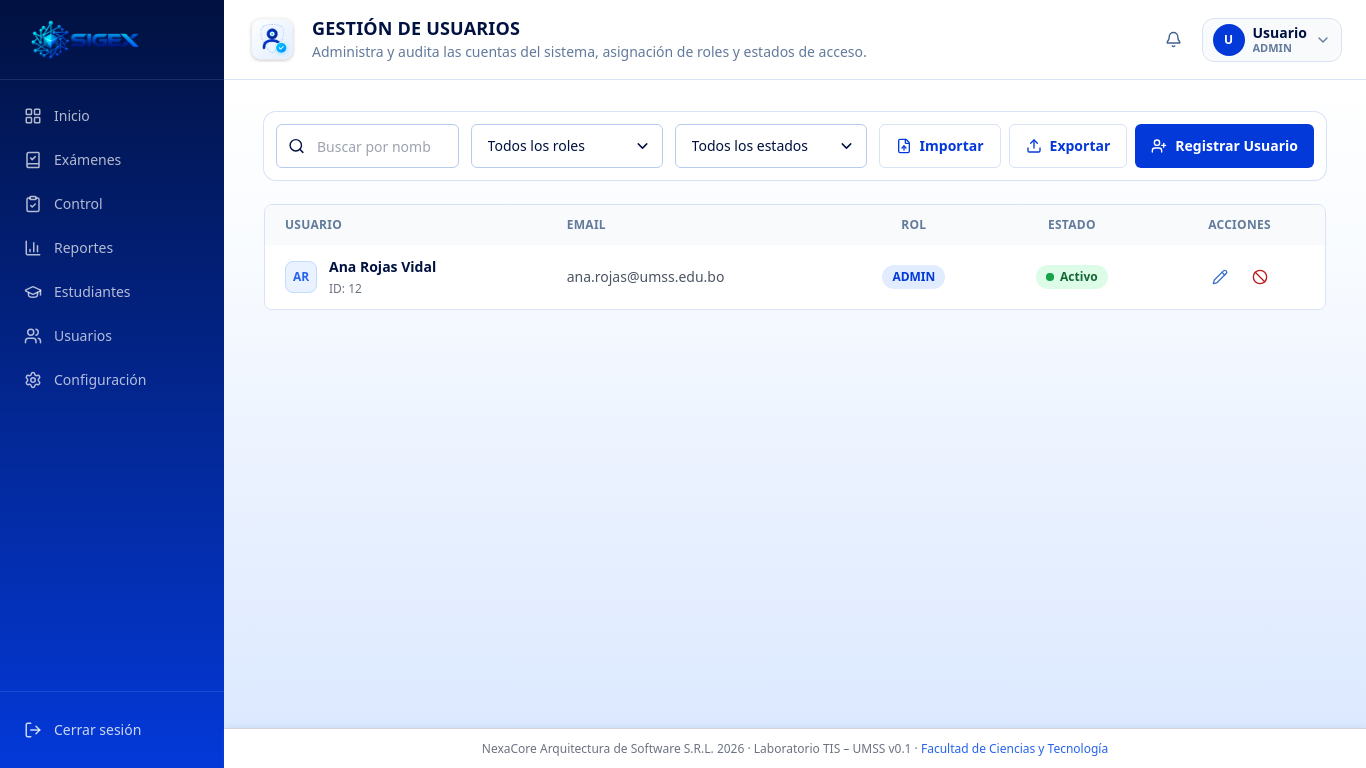
Test: UsuariosPage › integra el listado HU1 con el modal de registro de Lia
What coordinates should you click on to do the following:
click the button "Registrar Usuario"
I would click on:
 (1225, 146)
Its box is [1135,124,1314,168].
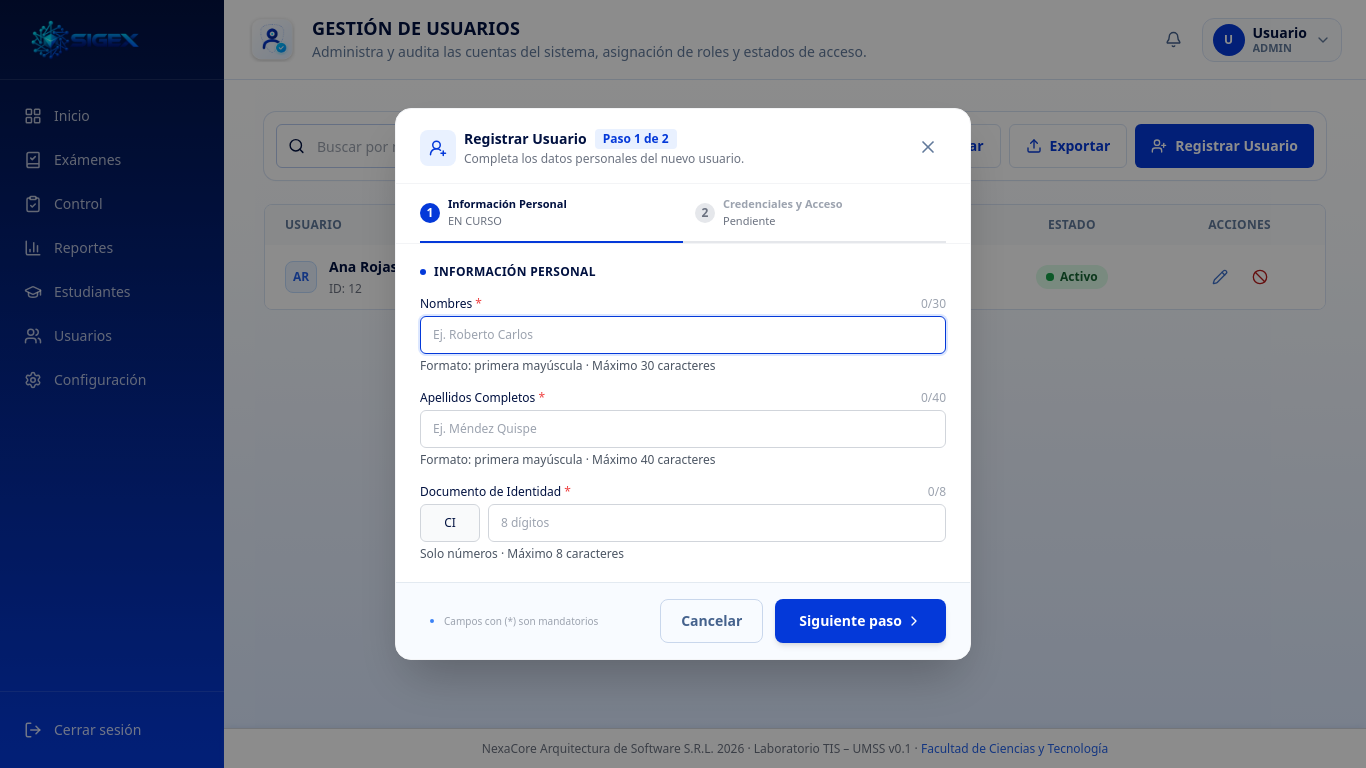
Now the heading "Registrar Usuario" is shown, box [464,129,587,149]
